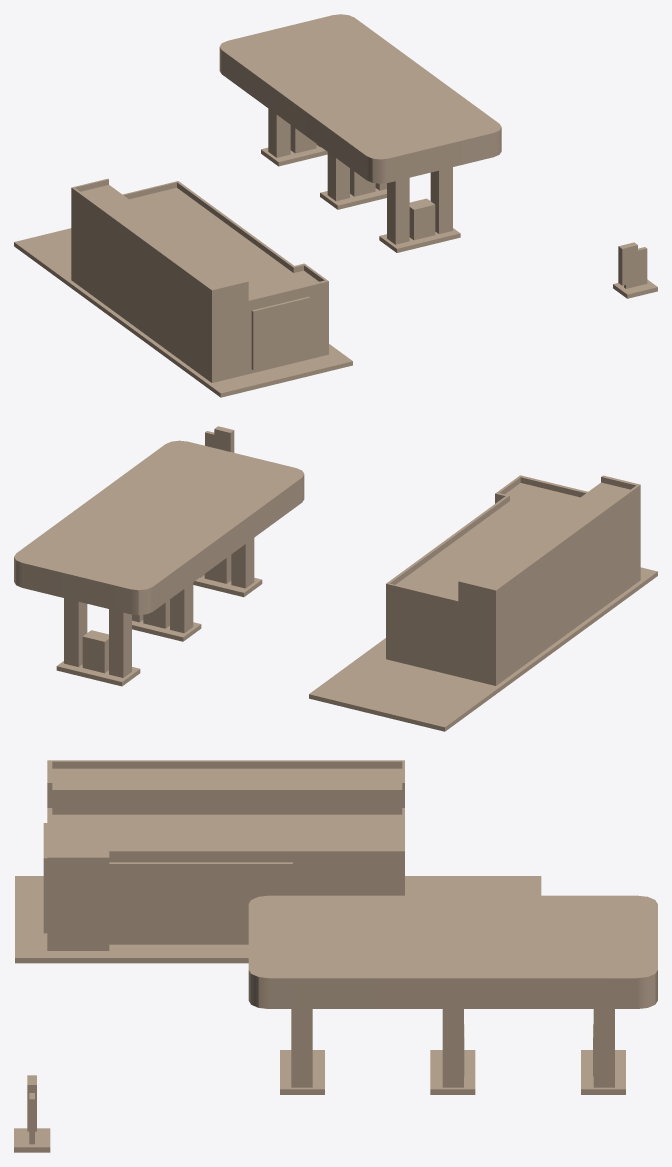
Rendered from gasStation30x30.fbx.
3 views of the same model, one above another, from view 1: azimuth 30°, elevation 25°; view 2: azimuth 150°, elevation 25°; view 3: azimuth 270°, elevation 25° (orthographic). The views are drawn at different scales.
Visible parts, largest first — view 1: polySurface68; view 2: polySurface68; view 3: polySurface68.
Boxes of the visible parts, bbox=[...] form: polySurface68: bbox=[14, 14, 657, 397]; polySurface68: bbox=[14, 426, 657, 731]; polySurface68: bbox=[14, 760, 657, 1152].
Bounding box in the file's own units: 29.79 × 7.1 × 29.89.
